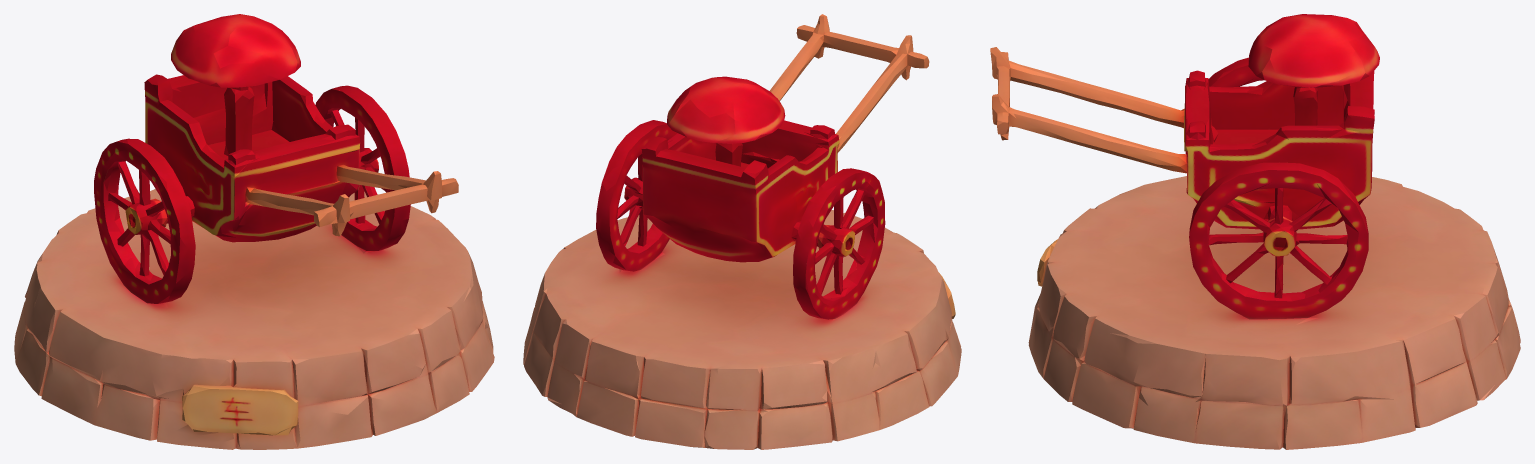
The model's file is chariot_red.glb.
3 views of the same model, side by side, from view 1: azimuth 30°, elevation 25°; view 2: azimuth 150°, elevation 25°; view 3: azimuth 270°, elevation 25° (orthographic). The views are drawn at different scales.
Visible parts, largest first — view 1: Mesh; view 2: Mesh; view 3: Mesh.
Boxes of the visible parts, bbox=[...] form: Mesh: bbox=[14, 14, 494, 449]; Mesh: bbox=[523, 14, 961, 449]; Mesh: bbox=[990, 14, 1520, 449].
Bounding box in the file's own units: 1.78 × 1.27 × 1.89.
Materials: 1 (1 with a texture image).
